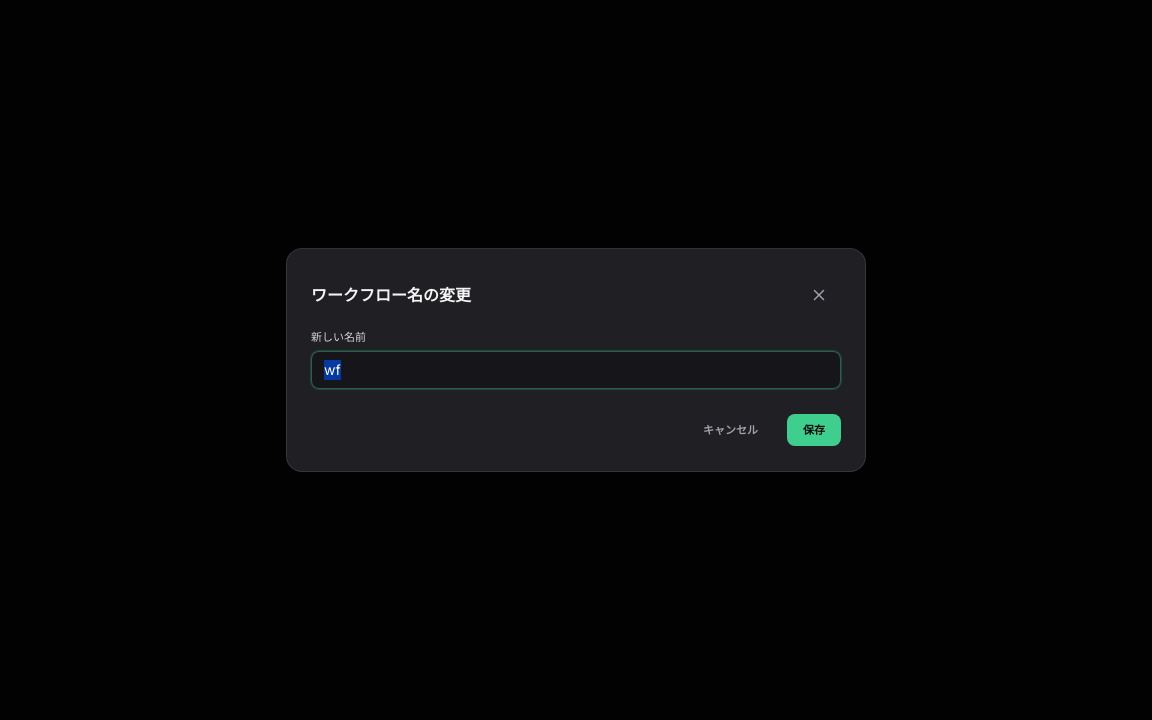
Scenario: WorkflowManageModal › [REQ-365/AC-9] shows conflict message on 409 error
The width and height of the screenshot is (1152, 720).
Click the button "保存": x=814, y=430 [787, 414, 841, 446]
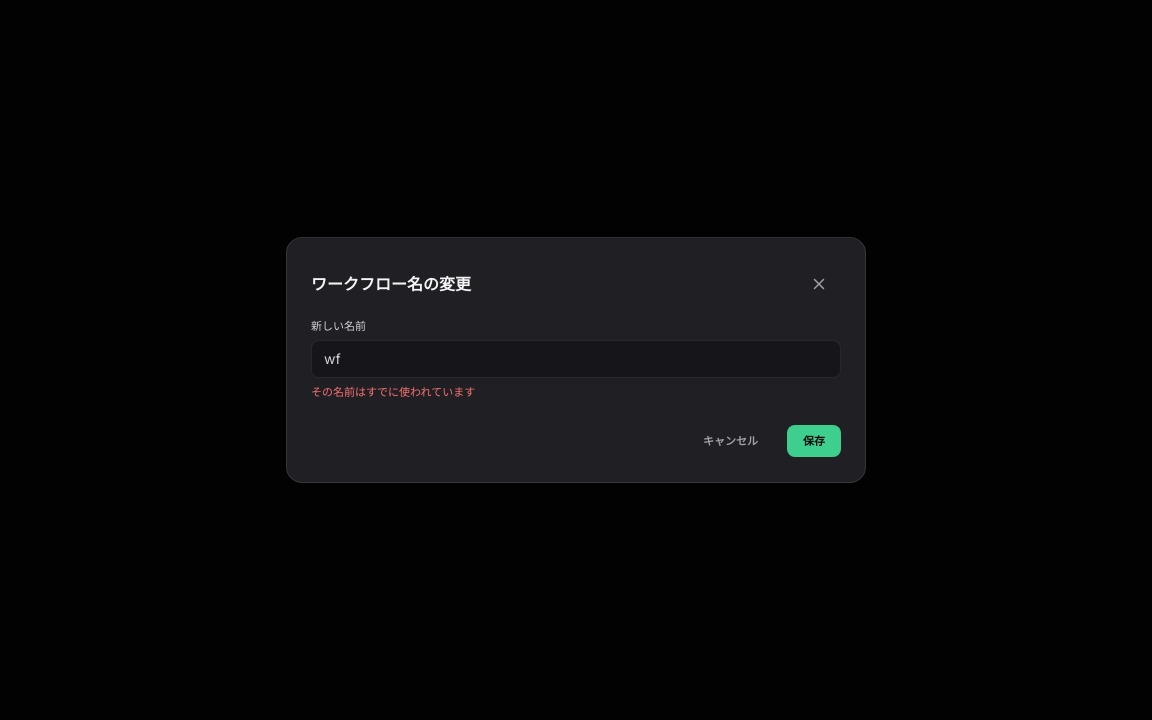
Expected: the text "その名前はすでに使われています" is shown, [311, 385, 475, 399]
